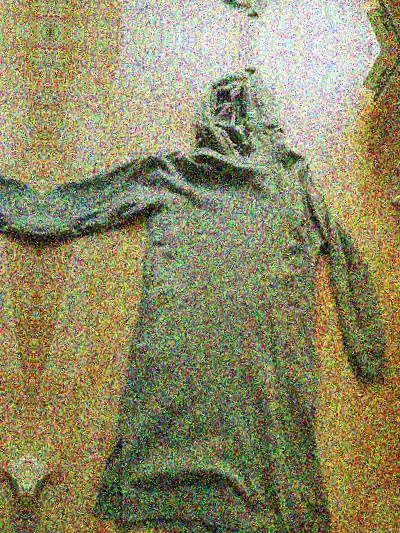Hoodie: (25, 65, 400, 533), (0, 47, 46, 533), (53, 0, 400, 18), (0, 528, 21, 533)
